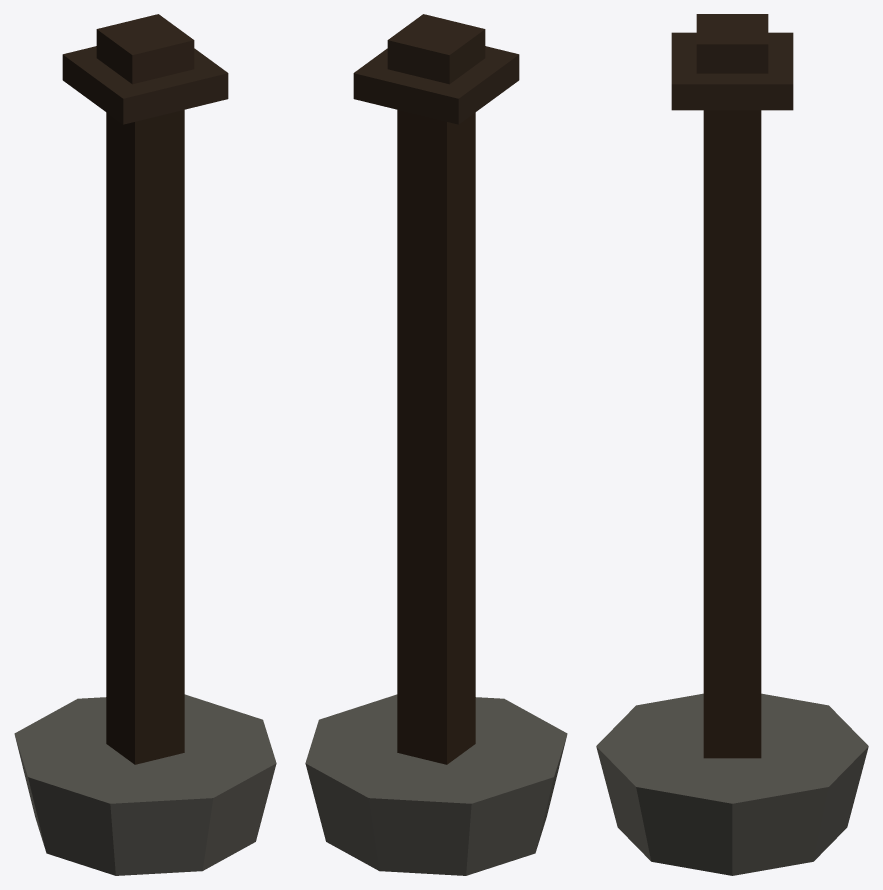
File: signpost.glb
The picture shows the model from 3 angles, left to right: view 1: azimuth 30°, elevation 25°; view 2: azimuth 150°, elevation 25°; view 3: azimuth 270°, elevation 25°; orthographic projection.
Visible parts, largest first — view 1: Signpost; view 2: Signpost; view 3: Signpost.
Part boxes in pixels (<box>): Signpost: <box>14,14,276,875</box>; Signpost: <box>305,14,567,875</box>; Signpost: <box>596,14,868,875</box>.
Size of the model in its own units: 0.76 by 2.46 by 0.76.
